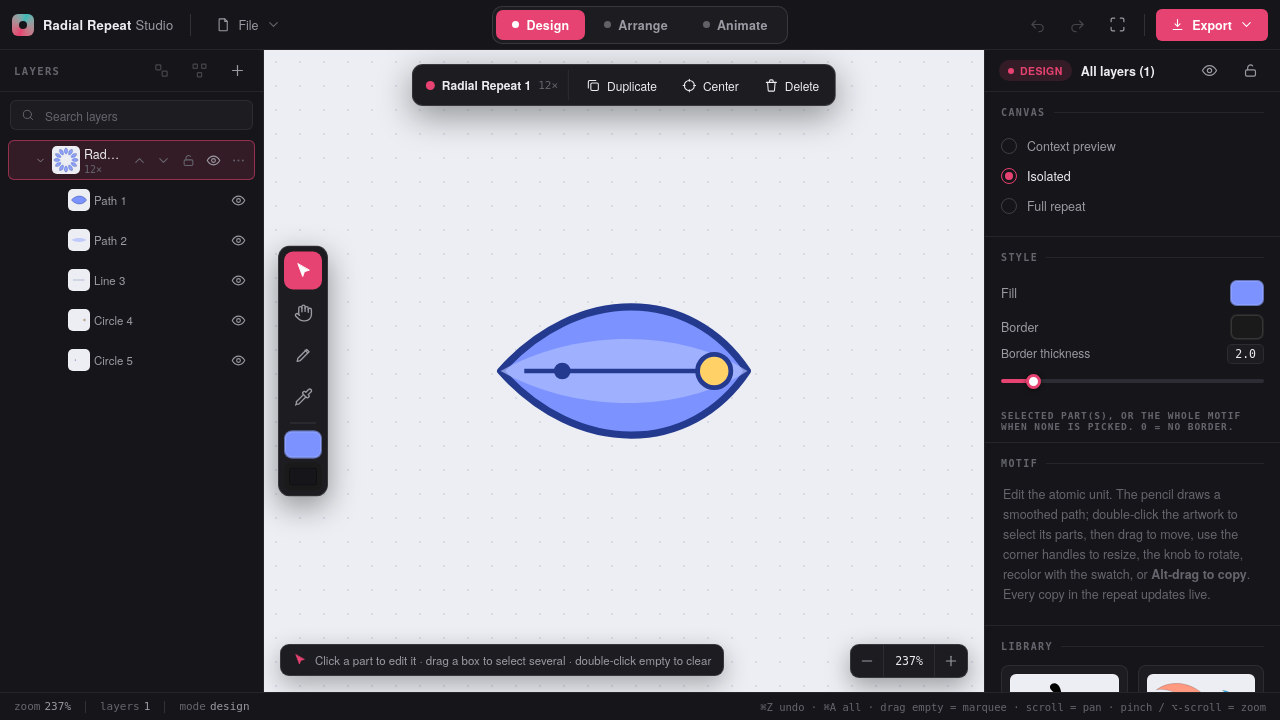
Test case: App layer interactions › deleting the only layer leaves an empty document
The width and height of the screenshot is (1280, 720).
Step 1. Click the button "Delete" → [792, 85], box [753,70,830,100]
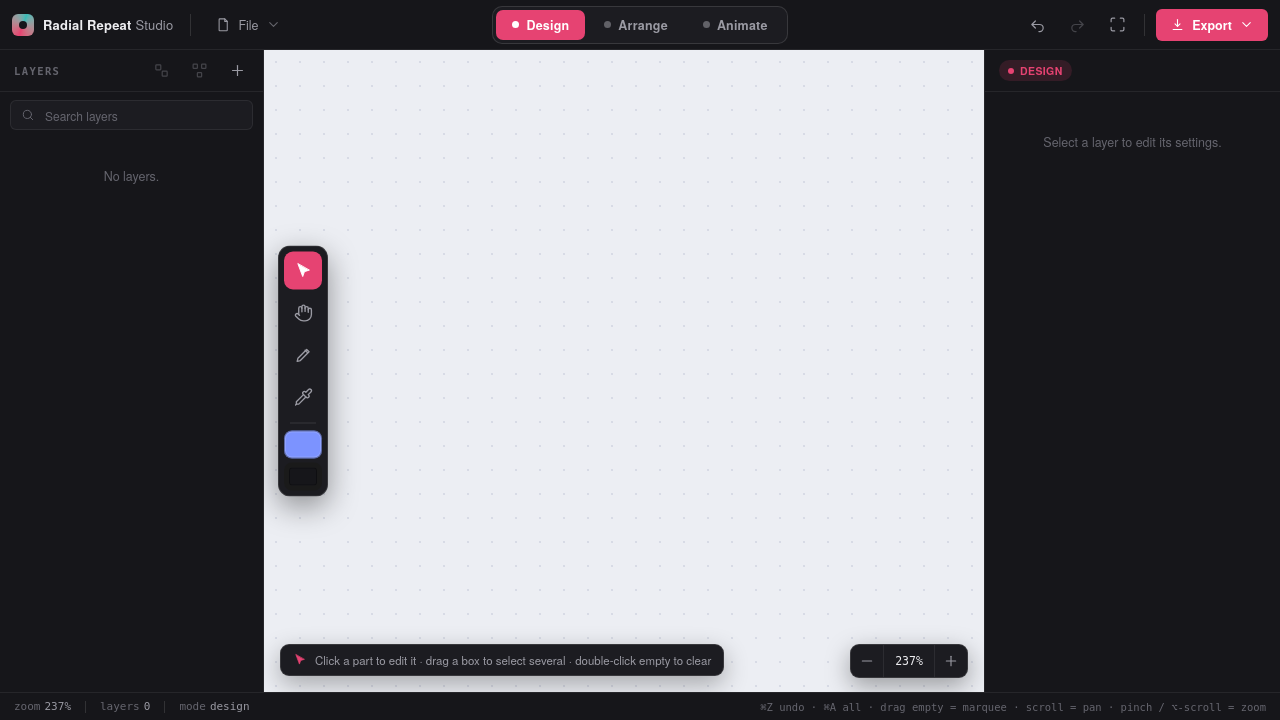
Now no elements with class "layer-row" are shown
Now the text "Select a layer to edit its settings." is shown, box [1043,133,1222,151]
